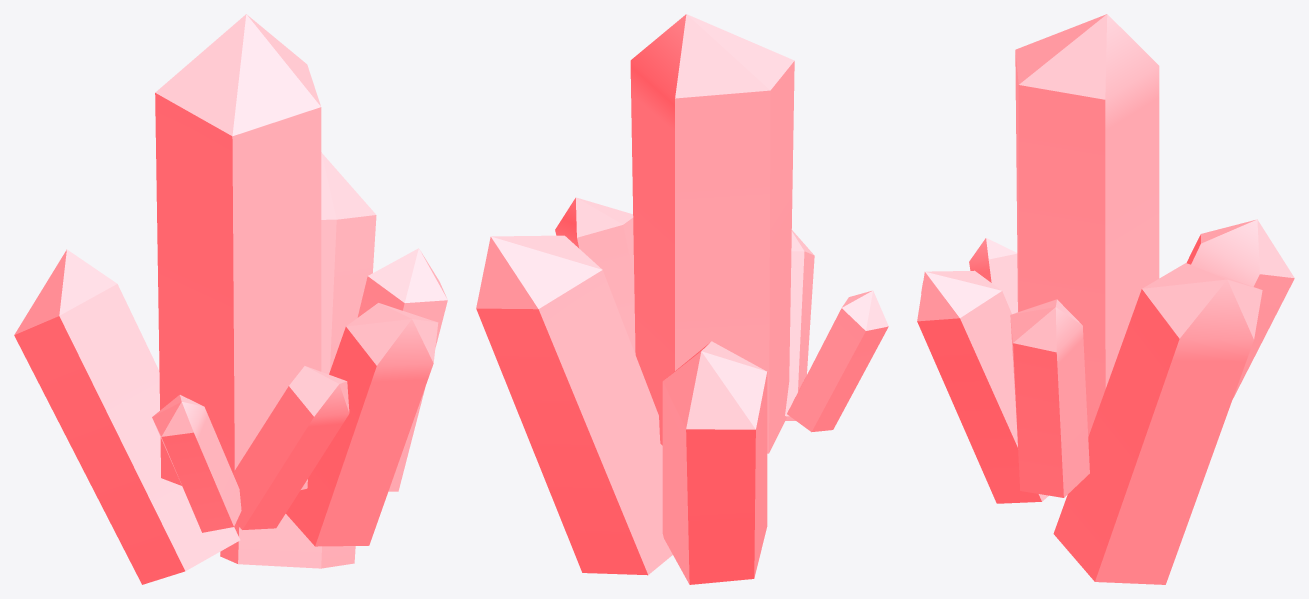
Rendered from Red crystal.fbx.
3 renders of one model, left to right at view 1: azimuth 30°, elevation 25°; view 2: azimuth 150°, elevation 25°; view 3: azimuth 270°, elevation 25°, orthographic. The views are drawn at different scales.
Parts seen in each view (by area): view 1: Red crystal; view 2: Red crystal; view 3: Red crystal.
Boxes of the visible parts, x1,y1,x2,y2 form: Red crystal: (14,14,447,584); Red crystal: (476,14,888,584); Red crystal: (917,14,1294,584).
Bounding box in the file's own units: 440 × 762 × 486.
